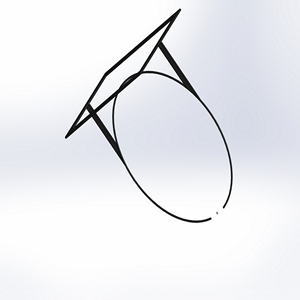circle: (64, 7, 236, 225)
